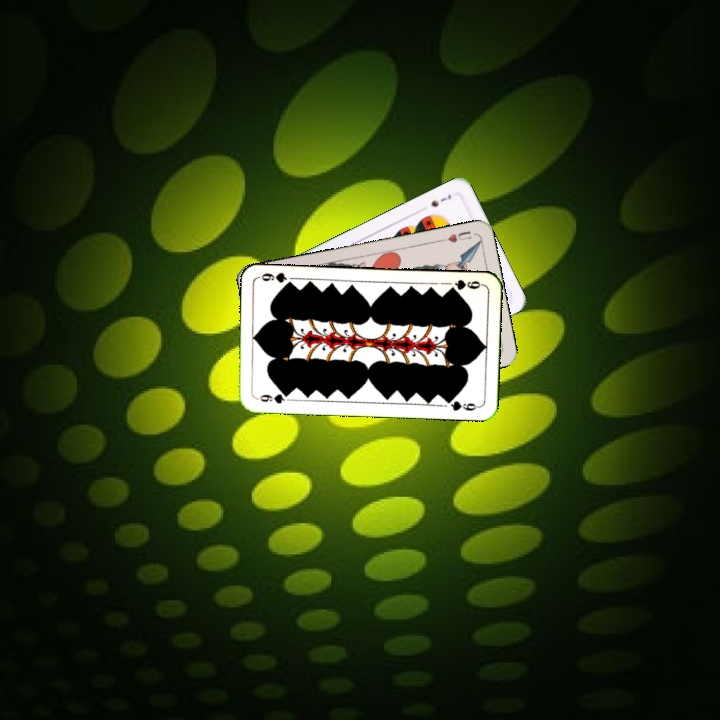G9: (444, 276, 485, 294), (252, 389, 292, 406)
HU: (437, 227, 474, 245)
S7: (427, 190, 454, 209)
